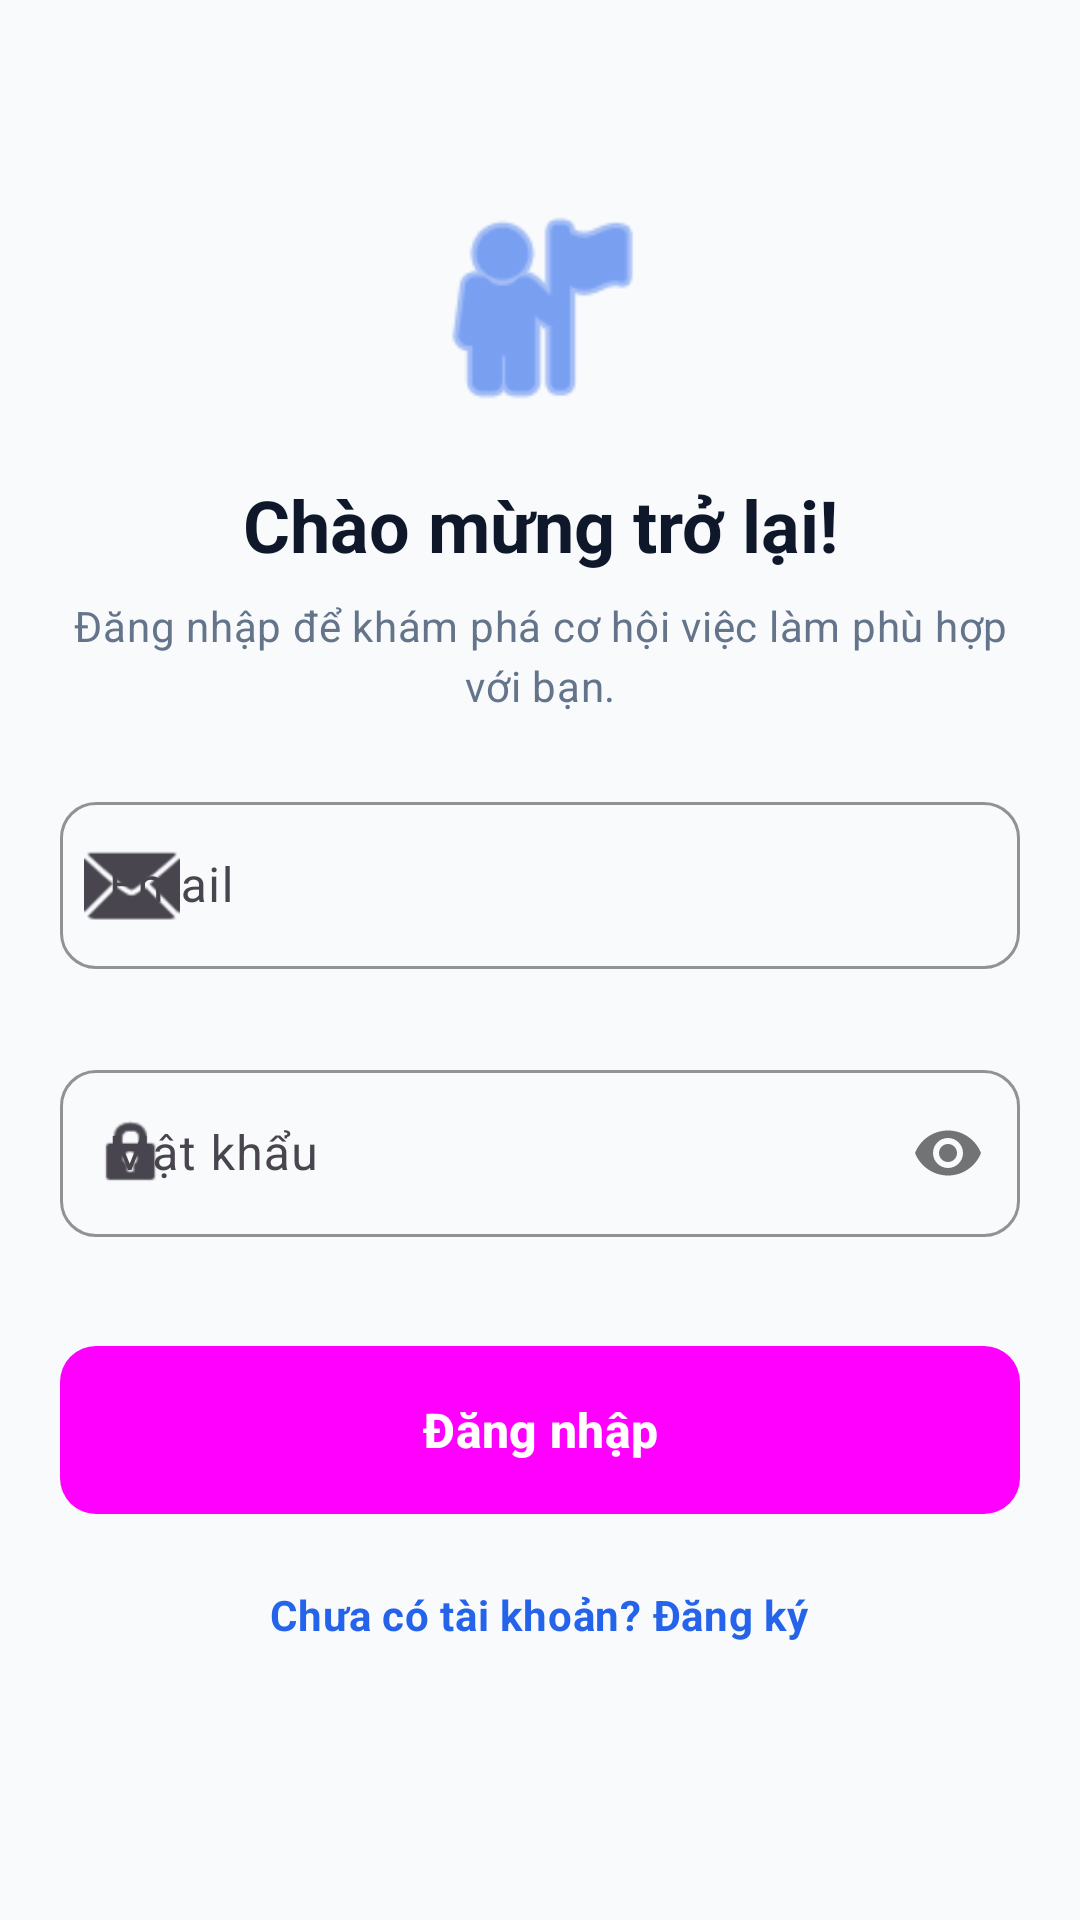

Where to tap for icons on this 1080x1920 app screen, as point (x, y):
myplaces: point (542, 308)
